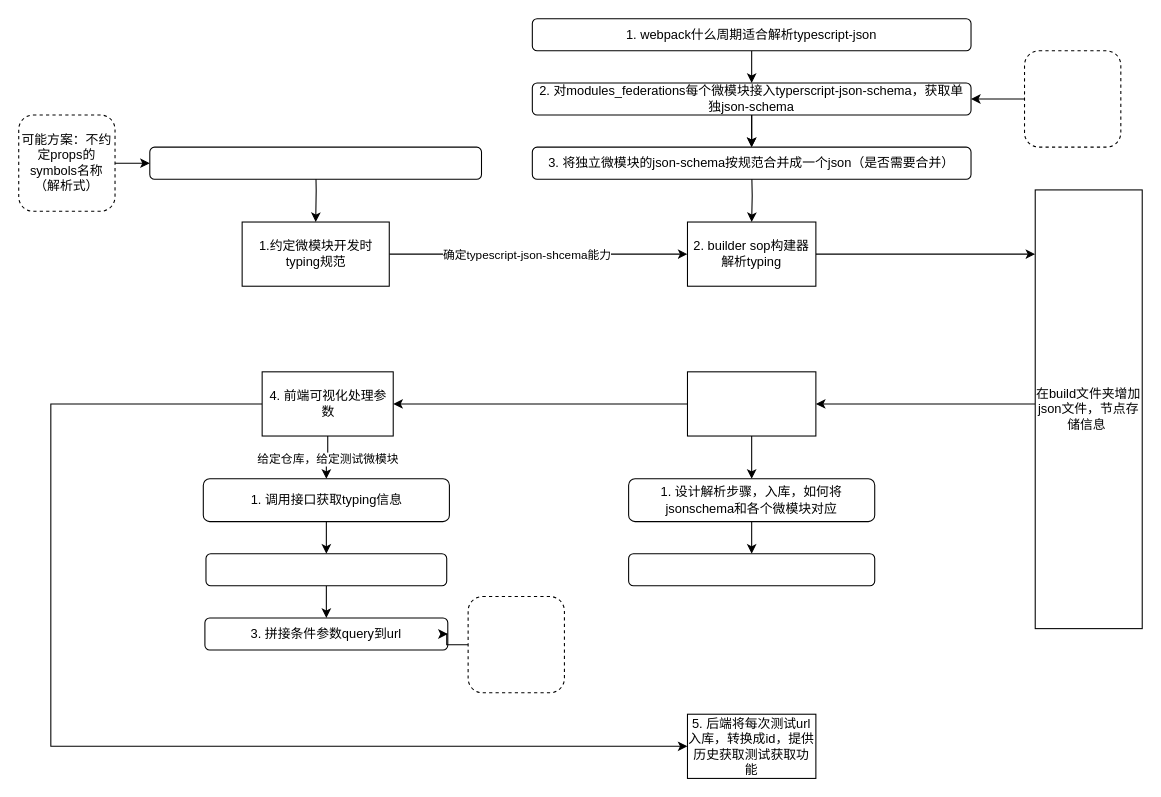
Image size: 1161x797. Some labels were removed from this diagram. Each missing label, with the centre of its shape:
1. 主props：声明props的约定symbols名称（声明式）: point (315, 162)
2. 提供后端接口，能够前端传入应用和微模块名之后获取typing信息: point (751, 569)
2. 表单约束props参数: point (326, 569)
3. 后端将jsonschema文件解析落库: point (751, 403)
可能技巧：多个generator加速生成: point (1072, 98)
可能方案：直接输出url提供测试: point (515, 644)
